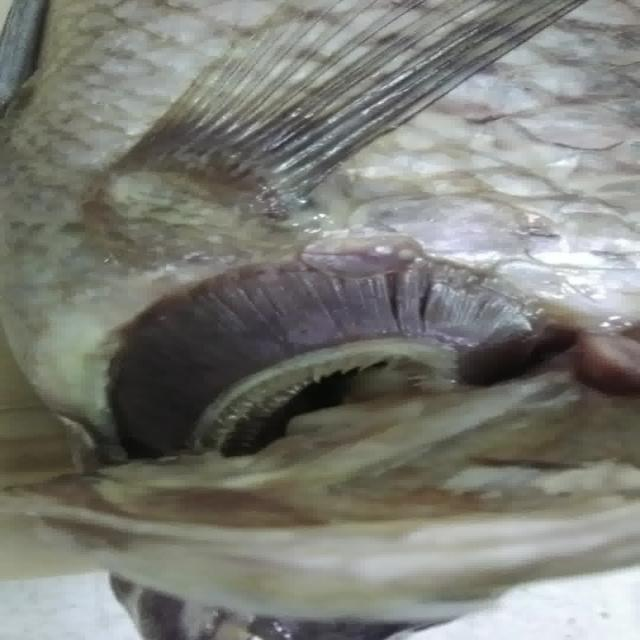Non-Fresh: (87, 247, 553, 488)
